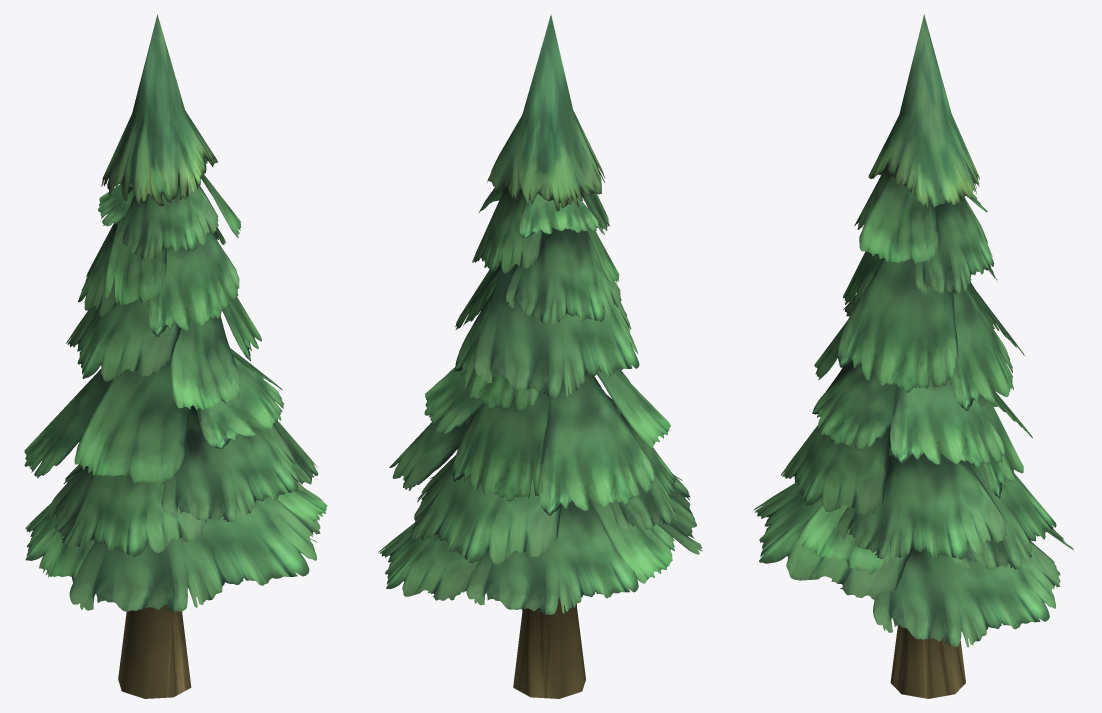
File: Tree_01a.fbx
3 renders of one model, left to right at view 1: azimuth 30°, elevation 25°; view 2: azimuth 150°, elevation 25°; view 3: azimuth 270°, elevation 25°, orthographic.
Parts seen in each view (by area): view 1: Tree_01a; view 2: Tree_01a; view 3: Tree_01a.
Boxes of the visible parts, x1,y1,x2,y2 form: Tree_01a: (24,14,327,698); Tree_01a: (378,14,702,698); Tree_01a: (753,14,1073,698).
Size of the model in its own units: 564 by 1207 by 564.
